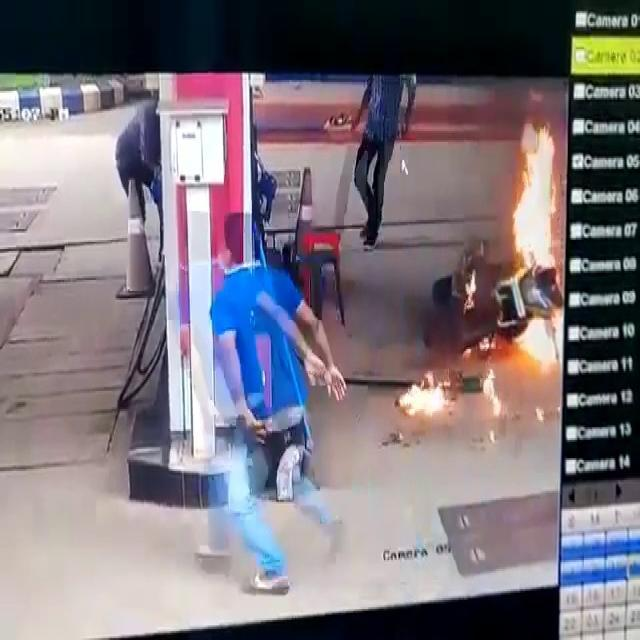Fire: (505, 116, 561, 276), (524, 298, 564, 392), (397, 368, 453, 423)
